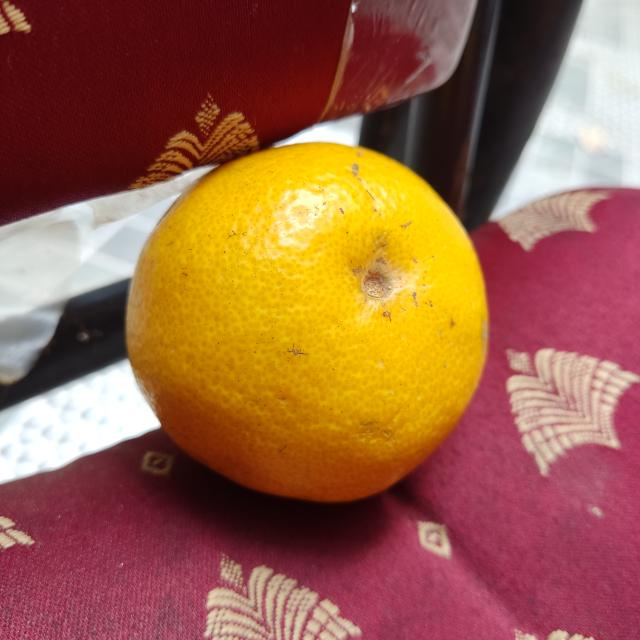orange: (126, 141, 488, 504)
